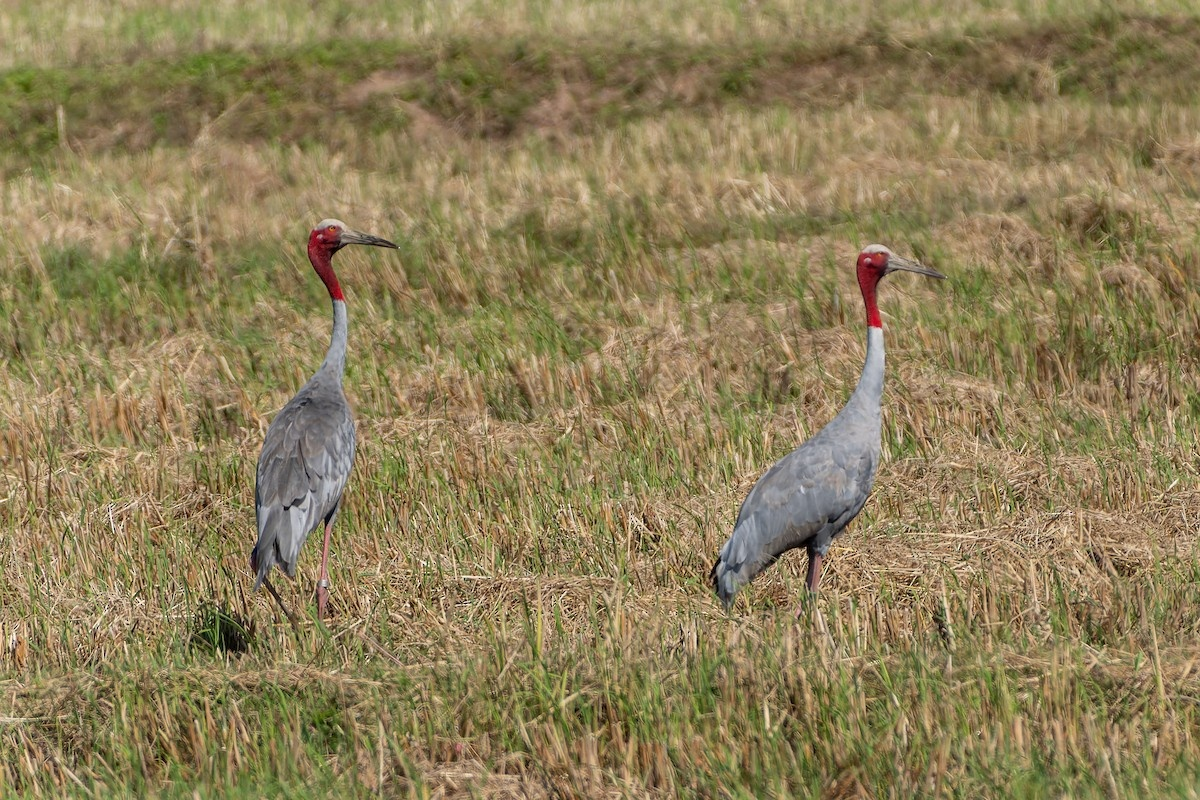crane: (713, 238, 958, 631), (250, 214, 404, 610)
